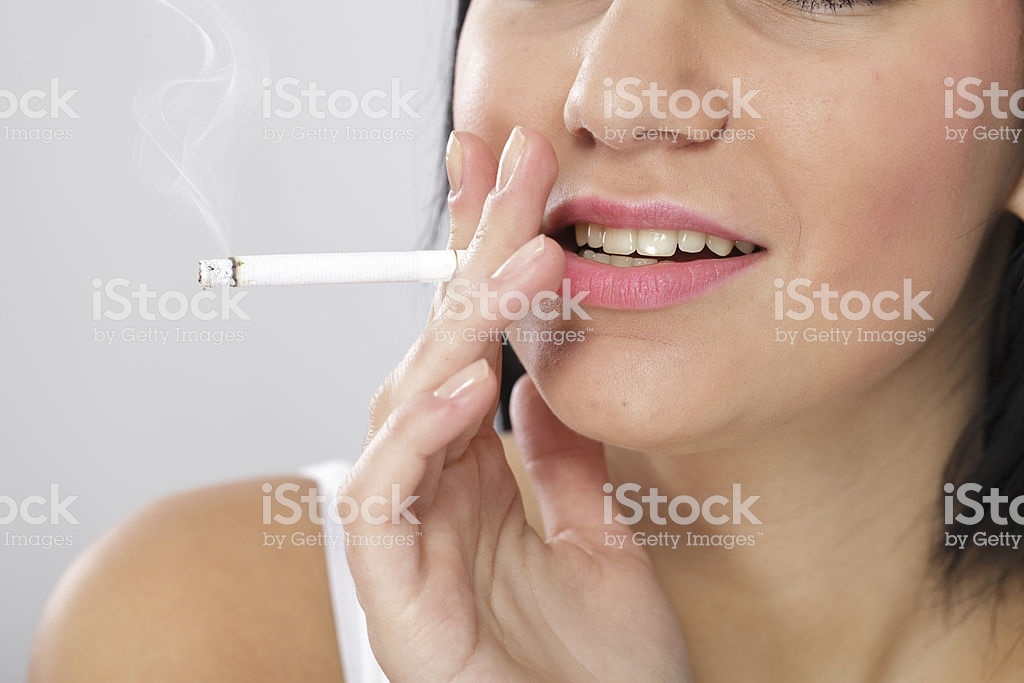sigaretta: (185, 244, 513, 290)
